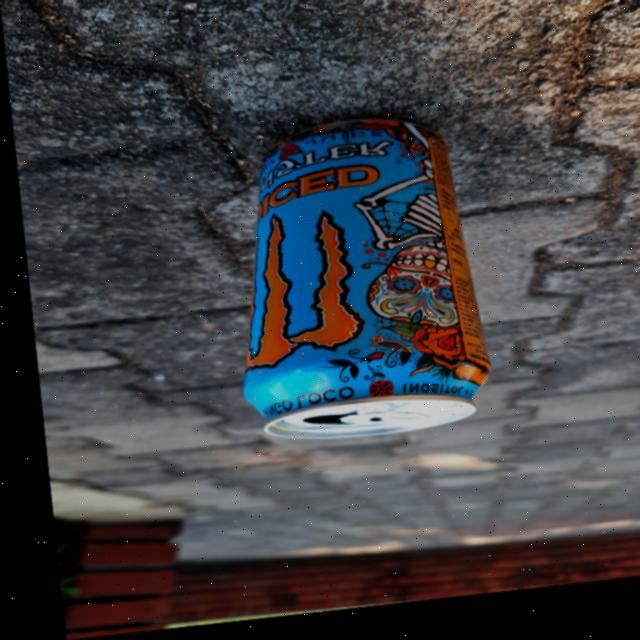Monster Mango Loco: (222, 121, 486, 462)
